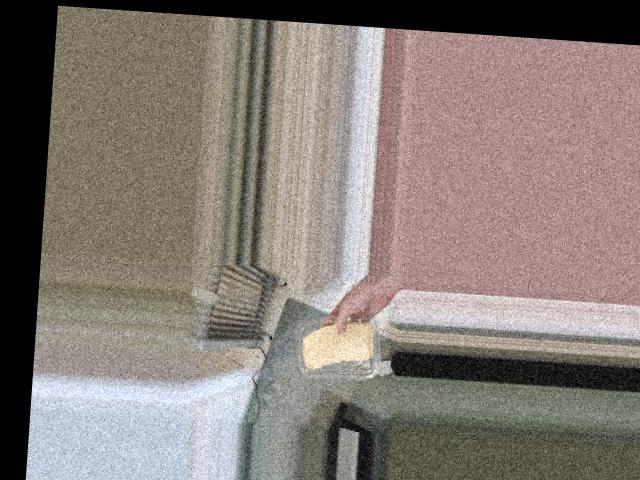cheese: (290, 311, 381, 380)
